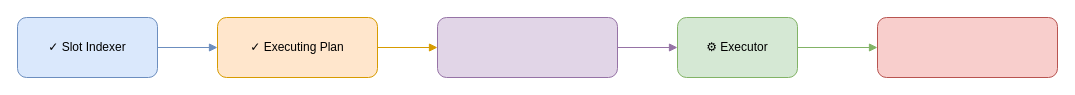
Image size: 1075x95. Some labels were removed from this diagram. The centre of each missing label's shape, as x and y in pixels:
"◉ Override Module" belongs at (x=967, y=47).
"✎ Marker Synthesizer" belongs at (x=527, y=47).
